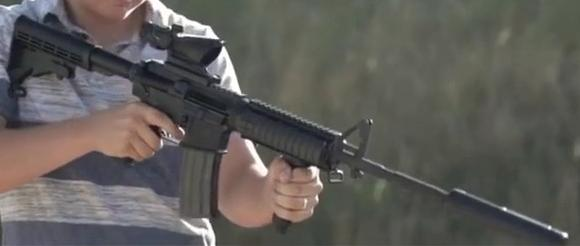gun: (1, 1, 580, 246)
